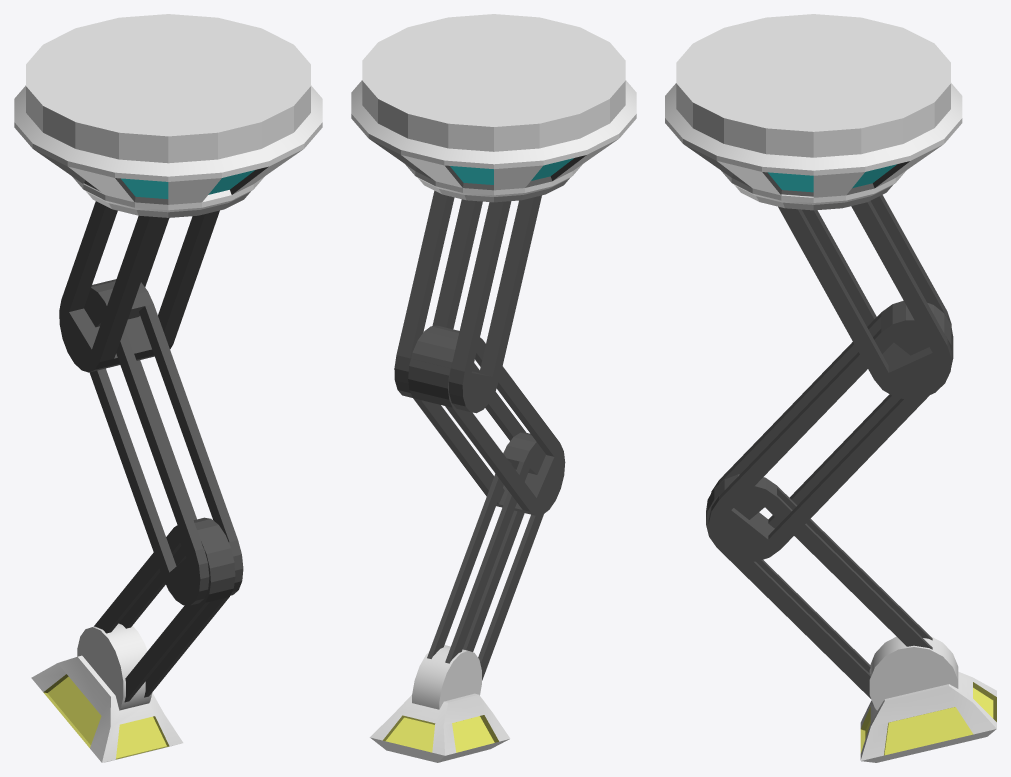
Rendered from ceiling lamp.FBX.
3 views of the same model, side by side, from view 1: azimuth 30°, elevation 25°; view 2: azimuth 150°, elevation 25°; view 3: azimuth 270°, elevation 25° (orthographic). The views are drawn at different scales.
Visible parts, largest first — view 1: Cylinder004, Cylinder002, Cylinder001, Box001, Cylinder003; view 2: Cylinder004, Cylinder001, Cylinder002, Cylinder003, Box001; view 3: Cylinder004, Cylinder002, Cylinder001, Box001, Cylinder003.
Part boxes in pixels (x1,y1,x2,y2): Cylinder004: (14, 14, 322, 217); Cylinder002: (84, 279, 243, 605); Cylinder001: (59, 201, 219, 372); Box001: (31, 623, 183, 762); Cylinder003: (94, 517, 235, 702); Cylinder004: (351, 14, 636, 202); Cylinder001: (394, 190, 541, 413); Cylinder002: (408, 325, 565, 515); Cylinder003: (427, 432, 545, 680); Box001: (370, 645, 510, 762); Cylinder004: (665, 14, 962, 210); Cylinder002: (708, 300, 953, 561); Cylinder001: (778, 195, 951, 399); Box001: (860, 636, 996, 762); Cylinder003: (706, 474, 932, 698).
Bounding box in the file's own units: 106 × 116 × 262.
